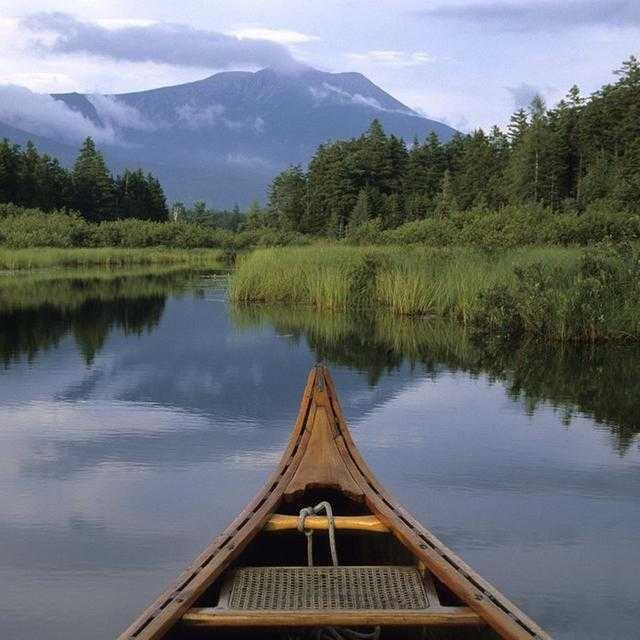kayak: (118, 358, 551, 639)
